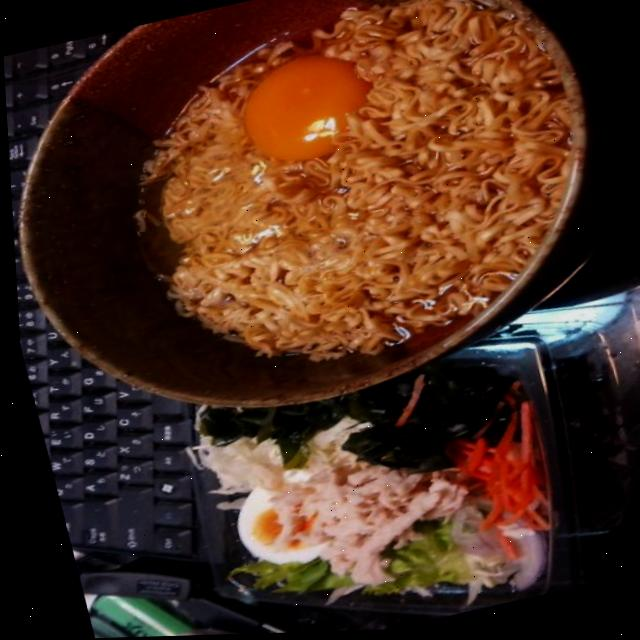面条主食: (9, 157, 640, 553)
